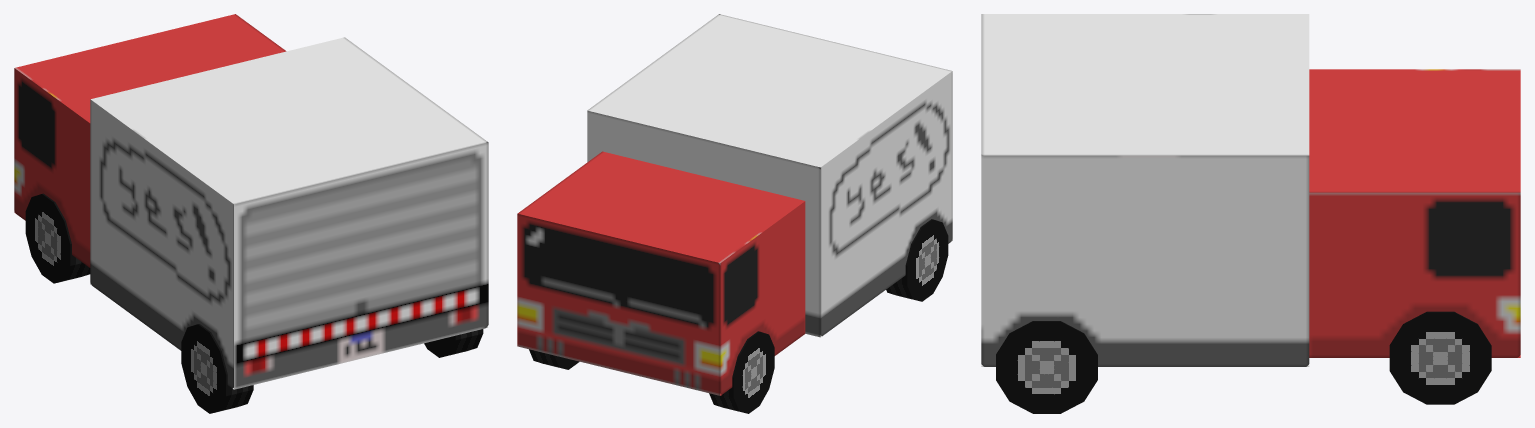
Rendered from Truck.fbx.
The picture shows the model from 3 angles, left to right: view 1: azimuth 30°, elevation 25°; view 2: azimuth 150°, elevation 25°; view 3: azimuth 270°, elevation 25°; orthographic projection. The views are drawn at different scales.
Visible parts, largest first — view 1: Back, Cabin, Wheel_1, Wheel, Wheel_2; view 2: Back, Cabin, Wheel, Wheel_1, Wheel_3; view 3: Back, Cabin, Wheel_3, Wheel_2.
Part boxes in pixels (x1,y1,x2,y2): Back: (90,37,488,389); Cabin: (14,14,286,267); Wheel_1: (181,324,253,413); Wheel: (25,193,90,283); Wheel_2: (424,329,483,357); Back: (587,14,952,337); Cabin: (517,151,805,395); Wheel: (709,331,774,413); Wheel_1: (886,219,948,301); Wheel_3: (529,349,579,369); Back: (981,14,1309,366); Cabin: (1309,69,1520,357); Wheel_3: (1389,311,1491,404); Wheel_2: (996,321,1097,413).
Bounding box in the file's own units: 291 × 244 × 462.
3 materials, 3 textured.
